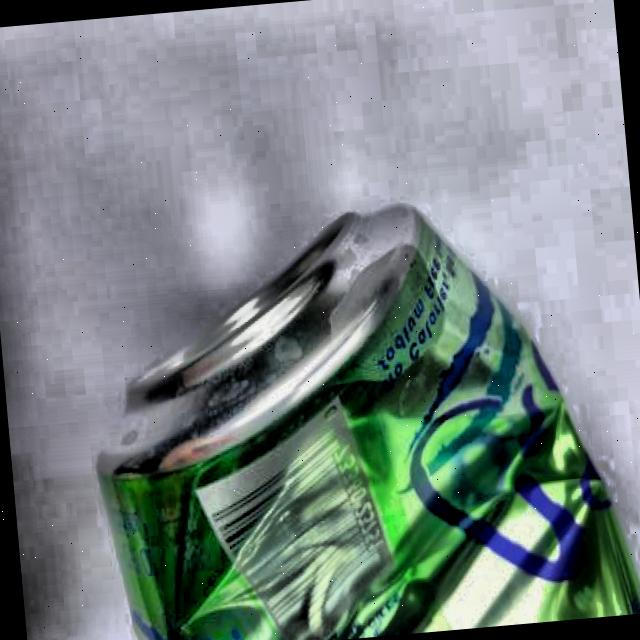metal: (77, 190, 633, 640)
